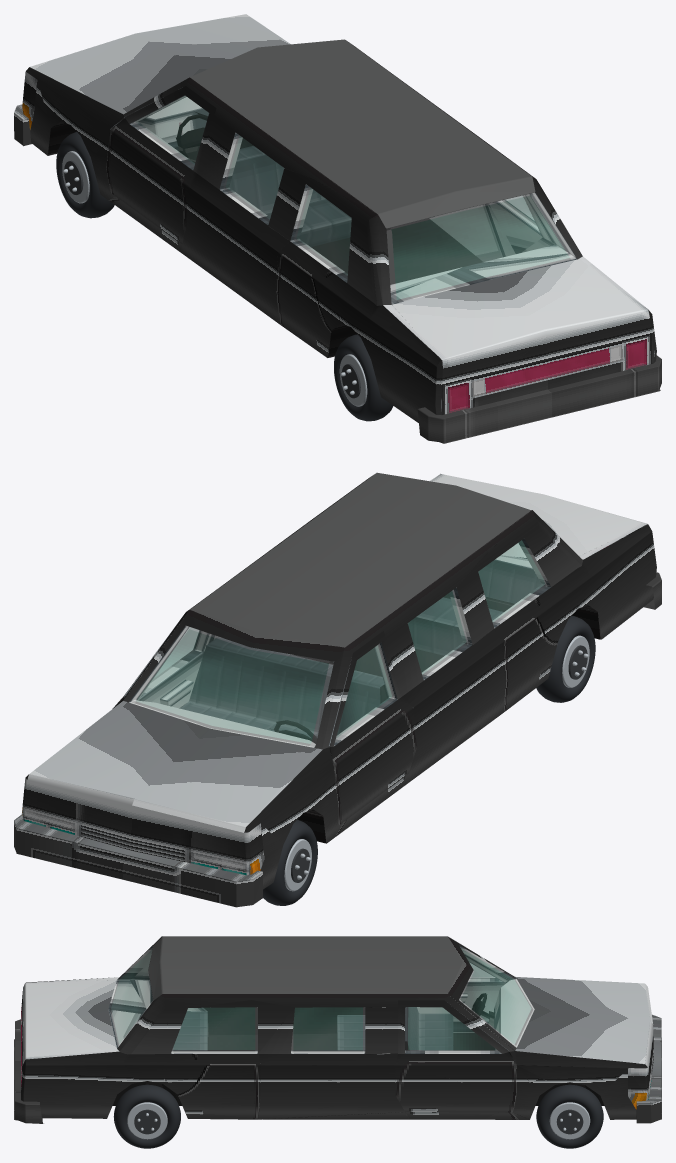
File: car-climo.glb
3 renders of one model, top to bottom at view 1: azimuth 30°, elevation 25°; view 2: azimuth 150°, elevation 25°; view 3: azimuth 270°, elevation 25°, orthographic. The views are drawn at different scales.
Parts seen in each view (by area): view 1: cLimoShape.002, cLimoShape.001, cLimoShape.006, cLimoShape.005, cLimoShape.004, cLimoShape.003, DoorDRotShape.041, cLimoShape, DoorDRotShape.043, Rounded tire.065, Rounded tire.066, DoorDRotShape.042 (+2 smaller); view 2: cLimoShape.003, cLimoShape.002, cLimoShape.006, cLimoShape.005, cLimoShape.004, DoorDRotShape.041, cLimoShape.001, DoorDRotShape.043, cLimoShape, DoorPRotShape.047, Rounded tire.065, Rounded tire.066 (+4 smaller); view 3: cLimoShape.002, cLimoShape.006, cLimoShape.005, cLimoShape.003, cLimoShape.004, cLimoShape.001, DoorPRotShape.046, cLimoShape, DoorPRotShape.048, Rounded tire.064, Rounded tire.067, DoorDRotShape.042 (+5 smaller).
Part boxes in pixels (left/top/right/bottom): cLimoShape.002: left=26, top=42, right=656, bottom=422; cLimoShape.001: left=383, top=256, right=661, bottom=443; cLimoShape.006: left=190, top=39, right=535, bottom=228; cLimoShape.005: left=223, top=135, right=575, bottom=303; cLimoShape.004: left=139, top=97, right=577, bottom=310; cLimoShape.003: left=14, top=14, right=290, bottom=146; DoorDRotShape.041: left=106, top=86, right=216, bottom=243; cLimoShape: left=48, top=112, right=482, bottom=366; DoorDRotShape.043: left=132, top=96, right=208, bottom=168; Rounded tire.065: left=334, top=334, right=393, bottom=421; Rounded tire.066: left=56, top=132, right=114, bottom=218; DoorDRotShape.042: left=110, top=87, right=209, bottom=170; cLimoShape.003: left=14, top=701, right=322, bottom=907; cLimoShape.002: left=25, top=475, right=656, bottom=889; cLimoShape.006: left=190, top=472, right=530, bottom=647; cLimoShape.005: left=131, top=540, right=547, bottom=746; cLimoShape.004: left=129, top=538, right=551, bottom=747; DoorDRotShape.041: left=329, top=631, right=417, bottom=825; cLimoShape.001: left=429, top=474, right=661, bottom=609; DoorDRotShape.043: left=335, top=644, right=394, bottom=742; cLimoShape: left=206, top=593, right=601, bottom=843; DoorPRotShape.047: left=112, top=619, right=211, bottom=708; Rounded tire.065: left=536, top=616, right=595, bottom=702; Rounded tire.066: left=263, top=819, right=317, bottom=905; cLimoShape.002: left=21, top=936, right=647, bottom=1119; cLimoShape.006: left=148, top=936, right=462, bottom=1000; cLimoShape.005: left=110, top=947, right=532, bottom=1052; cLimoShape.003: left=515, top=977, right=661, bottom=1123; cLimoShape.004: left=108, top=945, right=534, bottom=1054; cLimoShape.001: left=14, top=977, right=119, bottom=1123; DoorPRotShape.046: left=395, top=1000, right=516, bottom=1112; cLimoShape: left=112, top=993, right=635, bottom=1119; DoorPRotShape.048: left=405, top=1007, right=500, bottom=1052; Rounded tire.064: left=113, top=1084, right=180, bottom=1148; Rounded tire.067: left=536, top=1084, right=603, bottom=1148; DoorDRotShape.042: left=417, top=954, right=509, bottom=1032.
Size of the model in its own units: 2.56 by 1.99 by 7.84.
10 materials, 7 textured.
